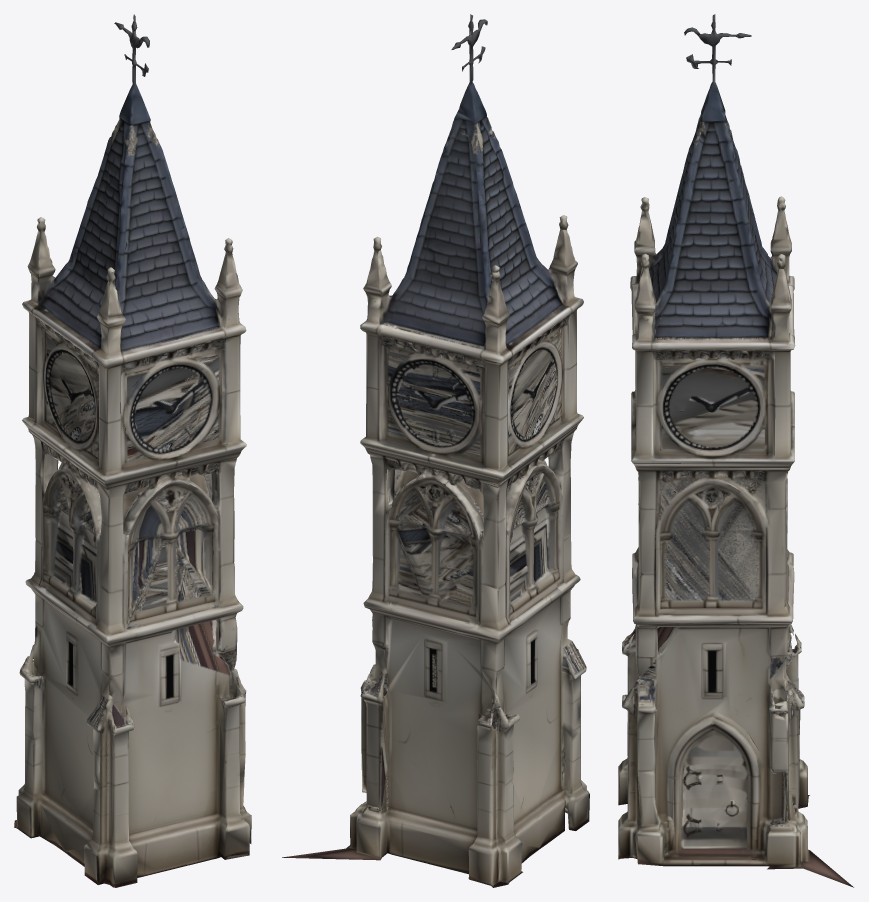
3 views of the same model, side by side, from view 1: azimuth 30°, elevation 25°; view 2: azimuth 150°, elevation 25°; view 3: azimuth 270°, elevation 25° (orthographic).
Parts seen in each view (by area): view 1: repaired; view 2: repaired; view 3: repaired.
Part boxes in pixels (<box>): repaired: <box>14,14,251,887</box>; repaired: <box>282,14,589,887</box>; repaired: <box>618,14,853,887</box>.
Size of the model in its own units: 0.2493 by 0.9851 by 0.2588.
Materials: 1 (1 with a texture image).
